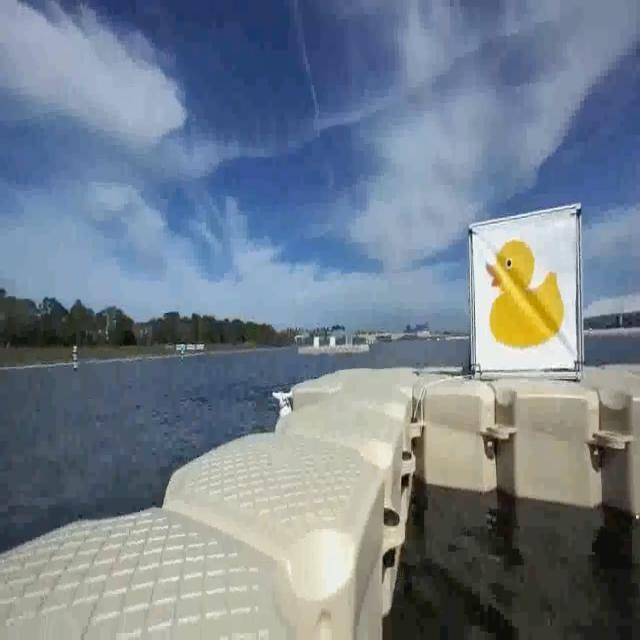yellow-duck: (476, 213, 572, 370)
